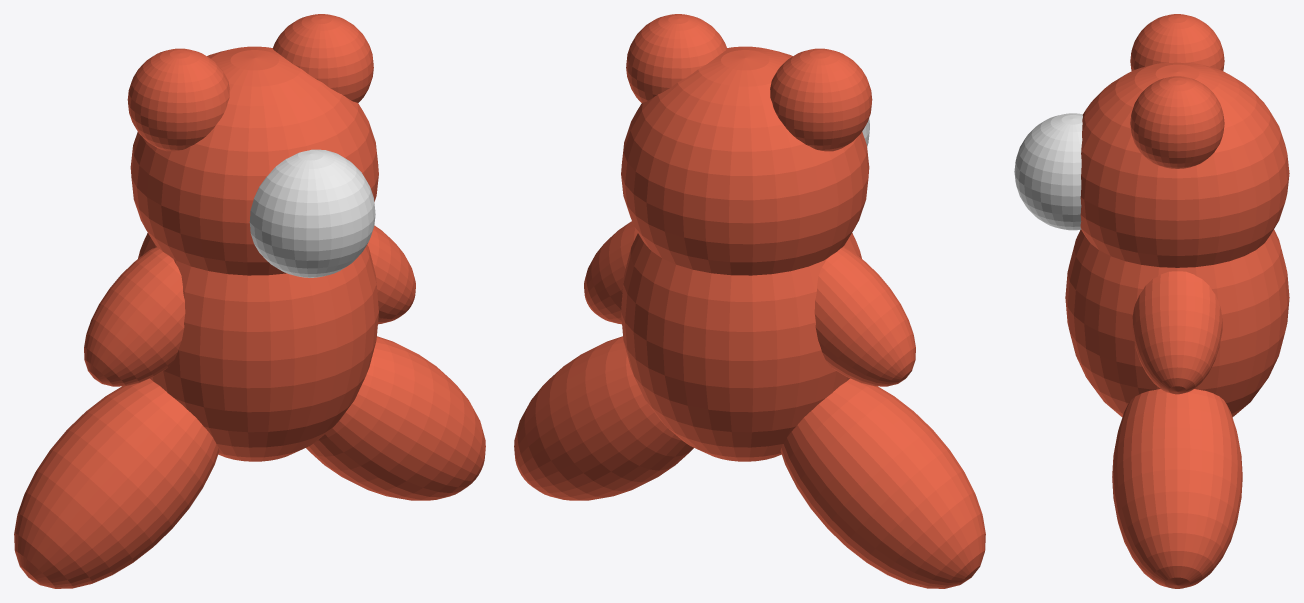
File: teddy.glb
The picture shows the model from 3 angles, left to right: view 1: azimuth 30°, elevation 25°; view 2: azimuth 150°, elevation 25°; view 3: azimuth 270°, elevation 25°; orthographic projection. The views are drawn at different scales.
Parts seen in each view (by area): view 1: Sphere; view 2: Sphere; view 3: Sphere.
Boxes of the visible parts, x1,y1,x2,y2 form: Sphere: (14,14,485,588); Sphere: (514,14,985,588); Sphere: (1014,14,1289,588).
Size of the model in its own units: 4.43 by 4.64 by 2.55.
